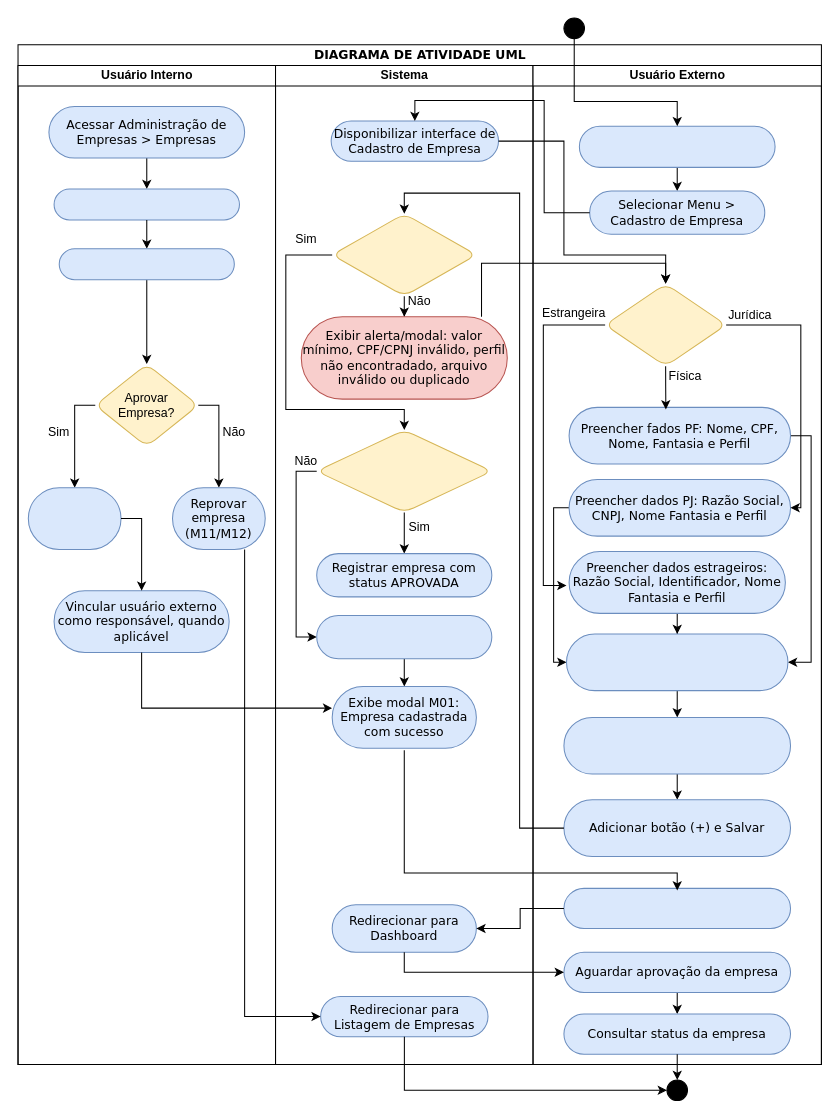
Image size: 839x1119. Some labels were removed from this diagram. Here are the shapes that lost their labels. From the top down, the centre of each, then its label:
At point 676,146: "Acessar sistema com certificado digital".
At point 146,204: "Consultar empresas cadastradas".
At point 146,264: "Analisar Cadastro e documentos".
At point 403,254: "Dados e documentos válidos?".
At point 665,324: "Selecionar Tipo Pessoa".
At point 404,470: "Cadastro feito por usuário interno?".
At point 74,518: "Aprovar empresa (M10)".
At point 404,636: "Registrar empresa com status PENDENTE".
At point 676,662: "Marcar Faturamento Direto, se desejar".
At point 677,745: "Anexar documento comprobatório do perfil".
At point 677,908: "Fechar modal de sucesso".
